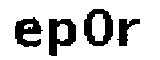0: (81, 5, 115, 49)
e: (9, 17, 44, 49)
p: (45, 17, 80, 59)
r: (115, 15, 141, 51)
